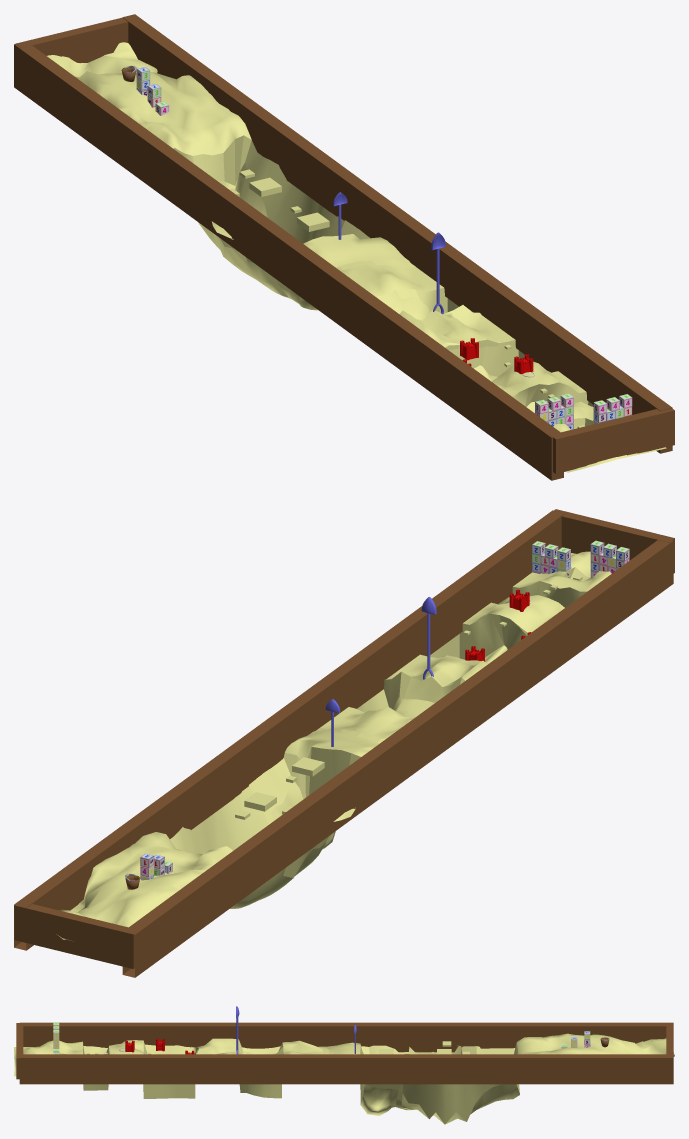
The model's file is map.fbx.
3 renders of one model, top to bottom at view 1: azimuth 30°, elevation 25°; view 2: azimuth 150°, elevation 25°; view 3: azimuth 270°, elevation 25°, orthographic. The views are drawn at different scales.
Parts seen in each view (by area): view 1: pCube1, pPlane1, pCube2, pCube3, pCube42; view 2: pCube1, pPlane1, pCube2, pCube42, pCube3; view 3: pCube2, pCube1, pPlane1, pCube3, pCube42.
Part boxes in pixels (x1,y1,x2,y2): pCube1: (14,44,563,480); pPlane1: (47,42,666,472); pCube2: (122,14,672,453); pCube3: (550,408,674,473); pCube42: (15,17,128,63); pCube1: (122,540,673,977); pPlane1: (56,551,611,941); pCube2: (14,510,564,950); pCube42: (14,904,139,968); pCube3: (554,509,674,573); pCube2: (19,1054,673,1084); pCube1: (20,1022,673,1052); pPlane1: (14,1033,674,1124); pCube3: (16,1023,23,1079); pCube42: (666,1023,673,1054).
Bounding box in the file's own units: 66.56 × 88.58 × 492.
